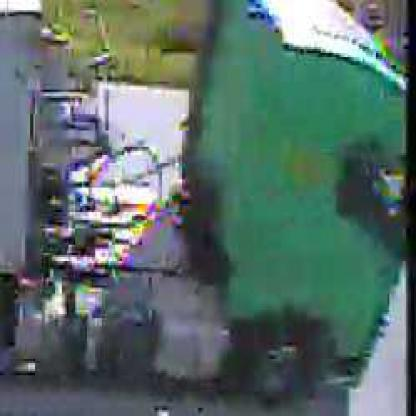container: (3, 5, 415, 415)
